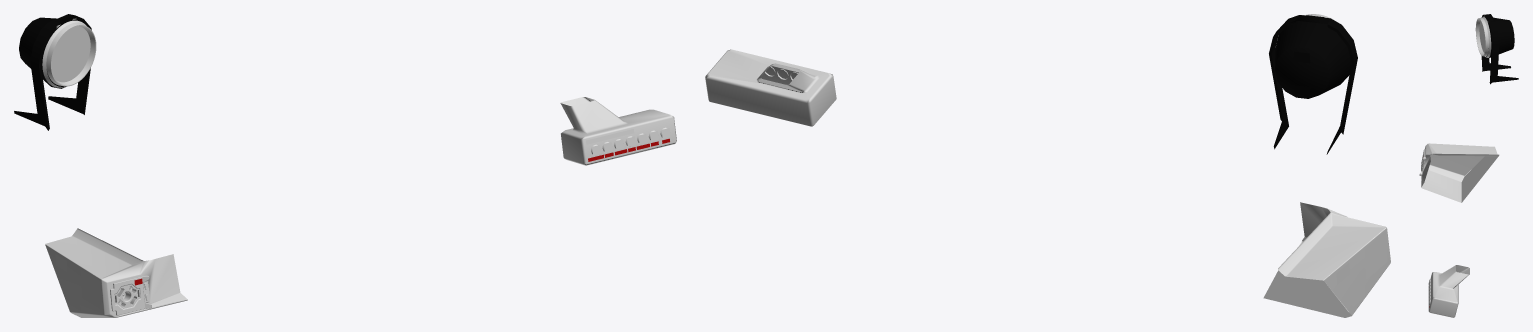
The model's file is doc_arcadia__int01_pod_tacho-plus-extras.glb.
The picture shows the model from 3 angles, left to right: view 1: azimuth 30°, elevation 25°; view 2: azimuth 150°, elevation 25°; view 3: azimuth 270°, elevation 25°; orthographic projection. The views are drawn at different scales.
Visible parts, largest first — view 1: submesh_00_LOD_1, submesh_04_LOD_1, submesh_01_LOD_1, submesh_02_LOD_1; view 2: submesh_00_LOD_1, submesh_02_LOD_1; view 3: submesh_00_LOD_1, submesh_01_LOD_1, submesh_04_LOD_1.
Boxes of the visible parts, <box> form: submesh_00_LOD_1: <box>14,14,676,317</box>; submesh_04_LOD_1: <box>51,26,90,82</box>; submesh_01_LOD_1: <box>55,26,670,311</box>; submesh_02_LOD_1: <box>81,270,100,309</box>; submesh_00_LOD_1: <box>705,14,1390,317</box>; submesh_02_LOD_1: <box>1364,231,1387,279</box>; submesh_00_LOD_1: <box>1419,14,1518,317</box>; submesh_01_LOD_1: <box>1422,19,1483,304</box>; submesh_04_LOD_1: <box>1479,21,1485,53</box>.
Size of what is drawn, in the model's own units: 0.9353 by 0.4181 by 0.2268.
